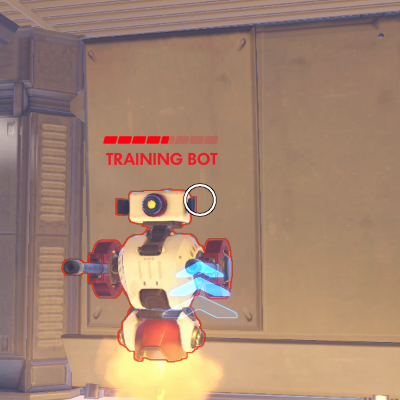hpbar: (102, 135, 220, 145)
